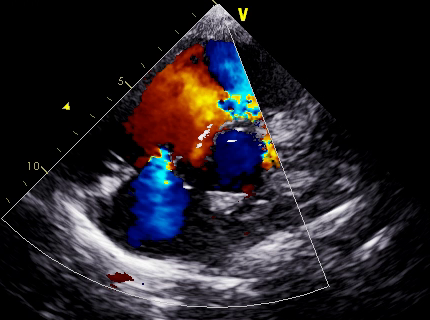TR: (127, 138, 191, 193)
